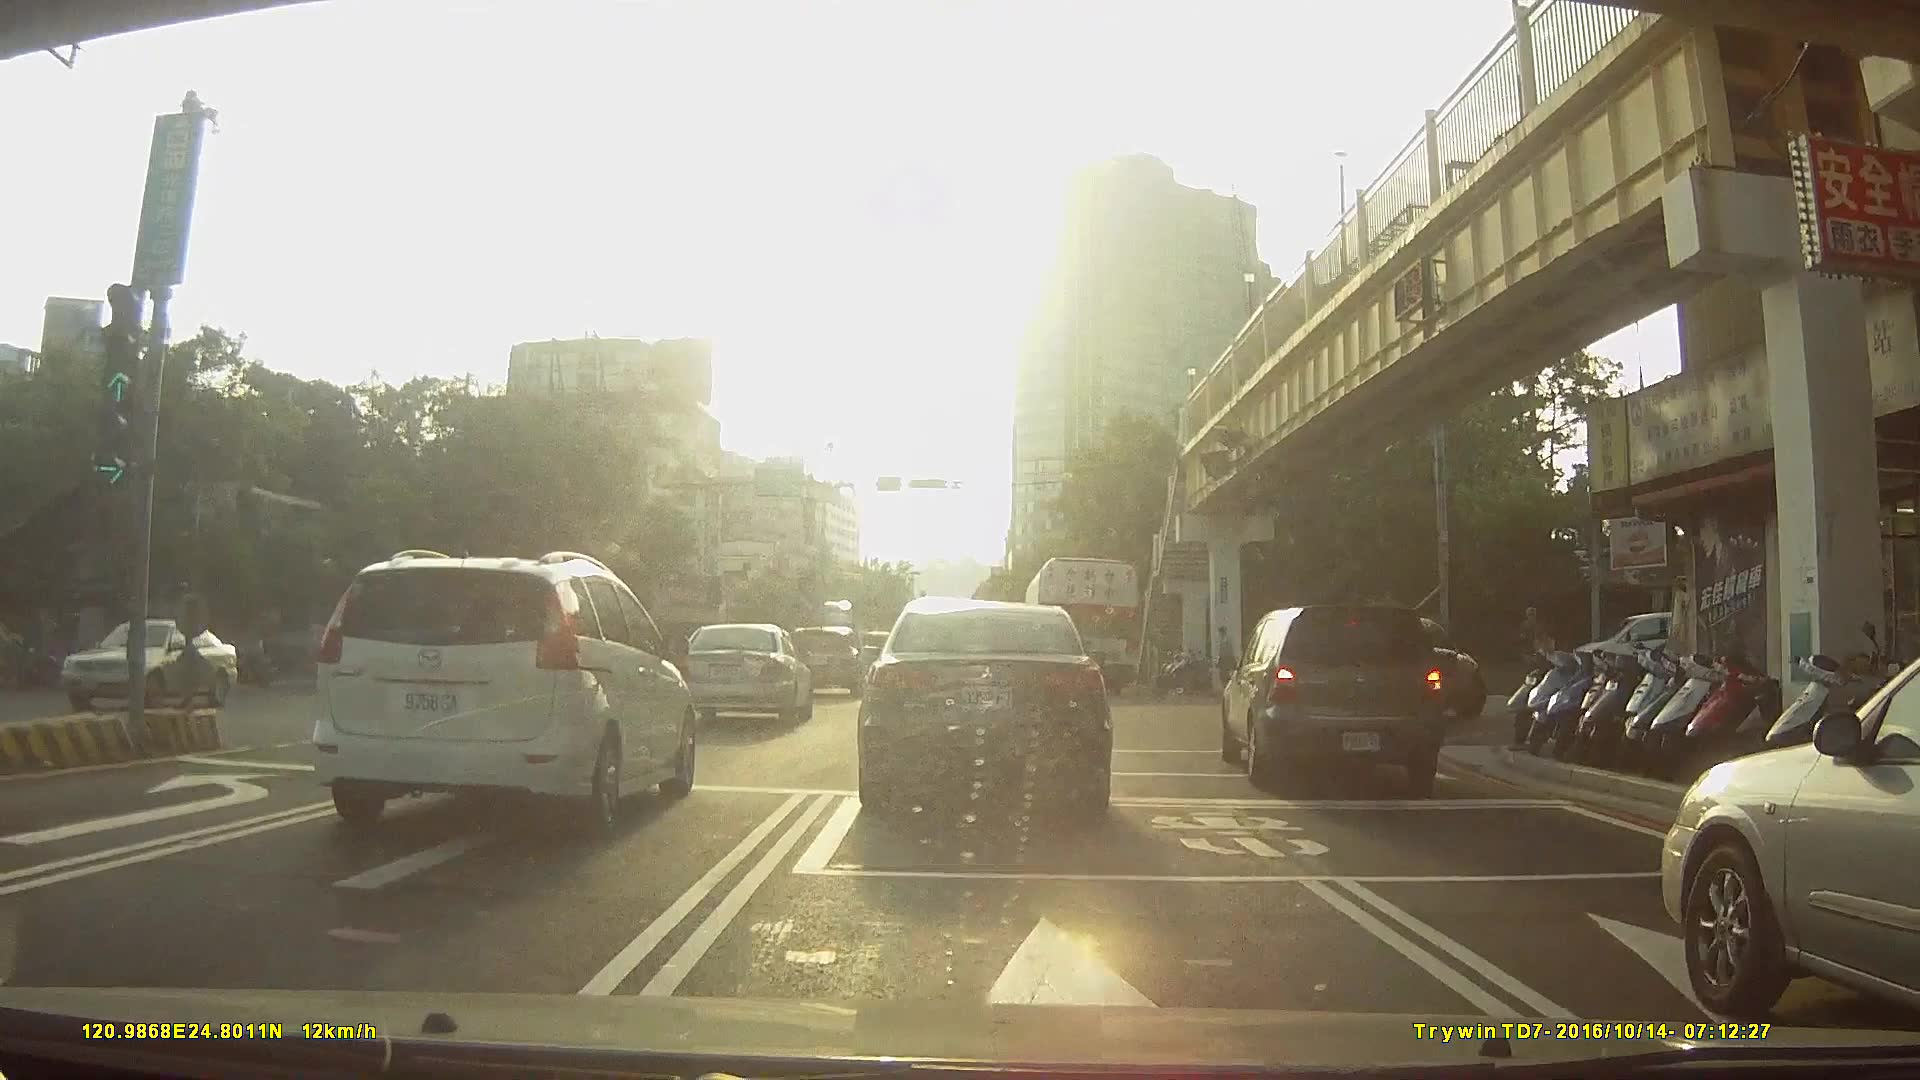pedestrian: (1215, 625, 1242, 693)
vehicle: (311, 547, 699, 834), (1664, 658, 1920, 1022), (857, 591, 1114, 820), (1218, 600, 1460, 794), (52, 619, 249, 713), (1026, 558, 1142, 698), (1369, 616, 1512, 718), (681, 623, 816, 729), (784, 624, 866, 700)
